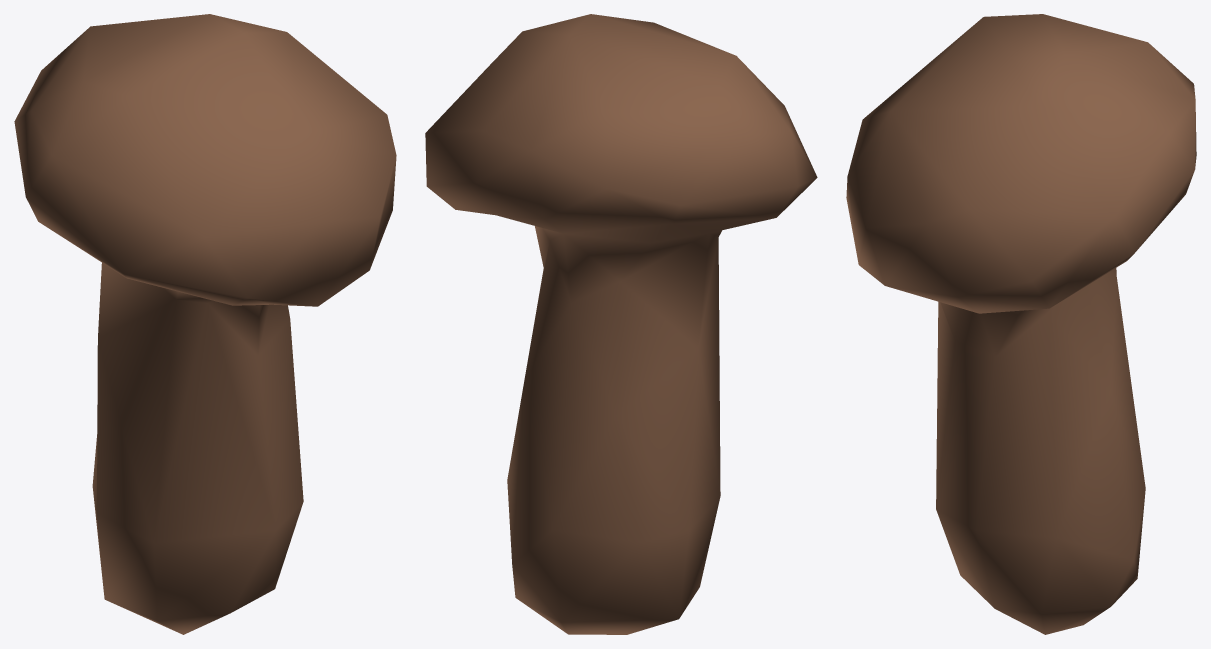
Rendered from Scatter_Mushroom_05_SM.fbx.
3 renders of one model, left to right at view 1: azimuth 30°, elevation 25°; view 2: azimuth 150°, elevation 25°; view 3: azimuth 270°, elevation 25°, orthographic. The views are drawn at different scales.
Parts seen in each view (by area): view 1: Scatter_Mushroom_05_SM; view 2: Scatter_Mushroom_05_SM; view 3: Scatter_Mushroom_05_SM.
Boxes of the visible parts, left/top/right/bottom form: Scatter_Mushroom_05_SM: left=14, top=14, right=396, bottom=634; Scatter_Mushroom_05_SM: left=425, top=14, right=817, bottom=634; Scatter_Mushroom_05_SM: left=846, top=14, right=1196, bottom=634.
Bounding box in the file's own units: 1062 × 1724 × 938.
